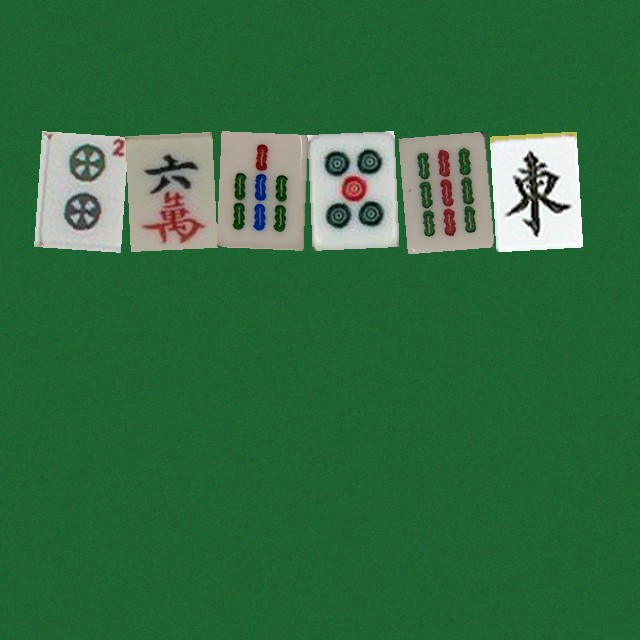tile: (34, 131, 121, 247), (125, 131, 212, 247), (216, 131, 303, 247), (307, 131, 394, 247), (398, 131, 485, 247), (489, 131, 576, 247)
